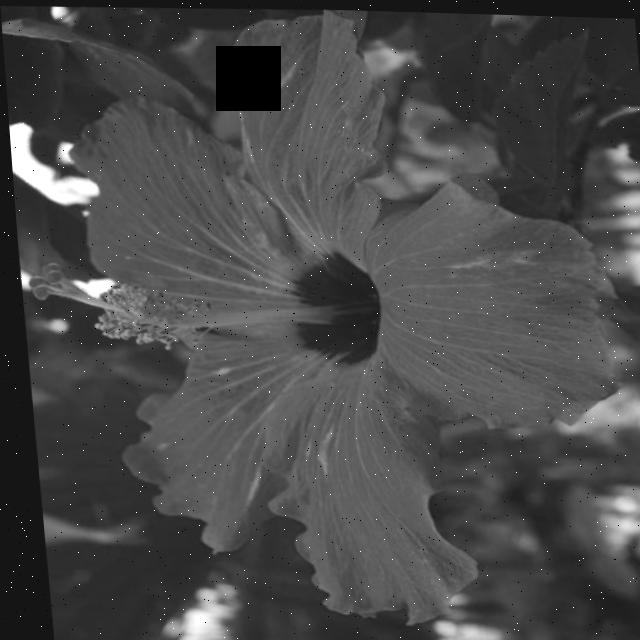hibiscus: (14, 18, 640, 640)
